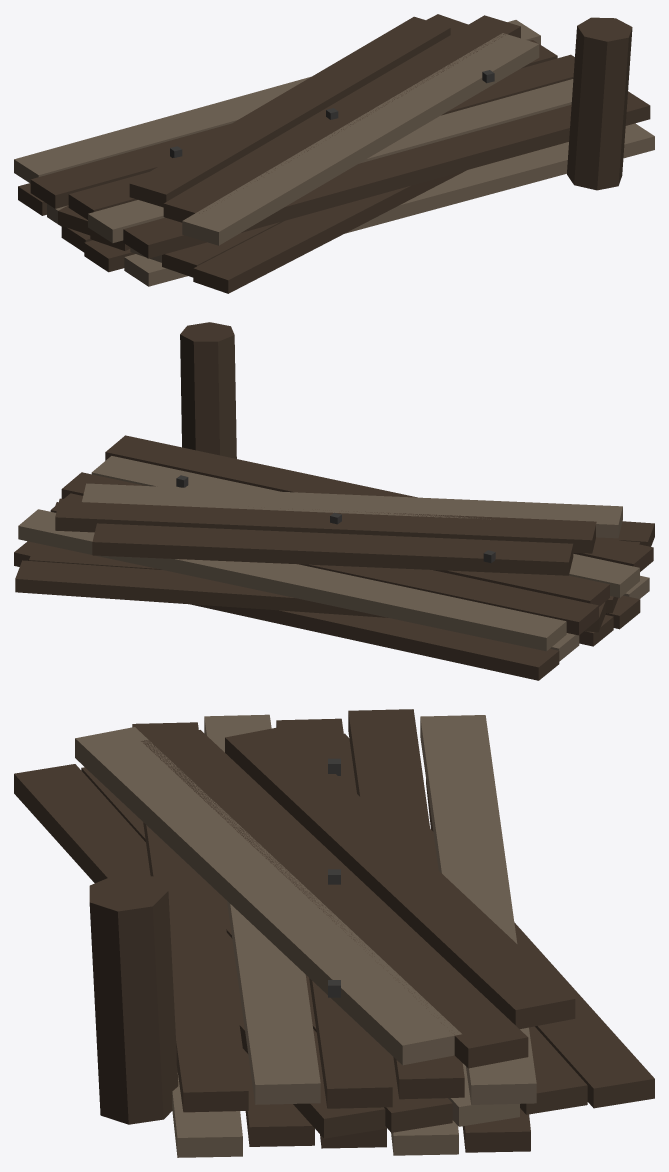
File: debris_seattle_pier_planks.glb
The picture shows the model from 3 angles, top to bottom: view 1: azimuth 30°, elevation 25°; view 2: azimuth 150°, elevation 25°; view 3: azimuth 270°, elevation 25°; orthographic projection. The views are drawn at different scales.
Parts seen in each view (by area): view 1: debris_seattle_pier_planks; view 2: debris_seattle_pier_planks; view 3: debris_seattle_pier_planks.
Boxes of the visible parts, x1,y1,x2,y2 form: debris_seattle_pier_planks: (14, 14, 654, 293); debris_seattle_pier_planks: (14, 322, 654, 680); debris_seattle_pier_planks: (14, 709, 654, 1157).
Size of the model in its own units: 4.2 by 1.12 by 2.93.
1 material, 1 textured.
